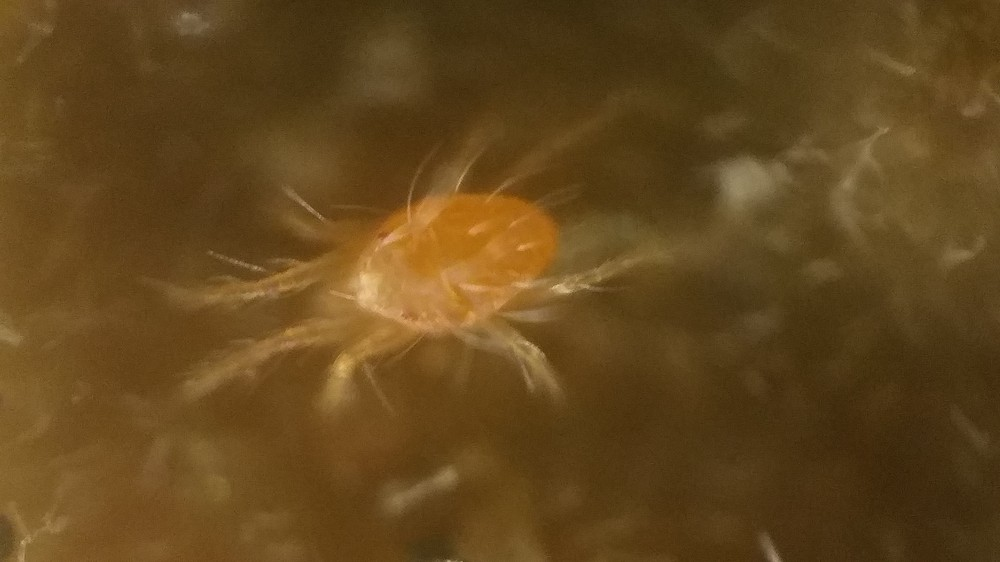Aracnido Rojo: (140, 109, 689, 454)
